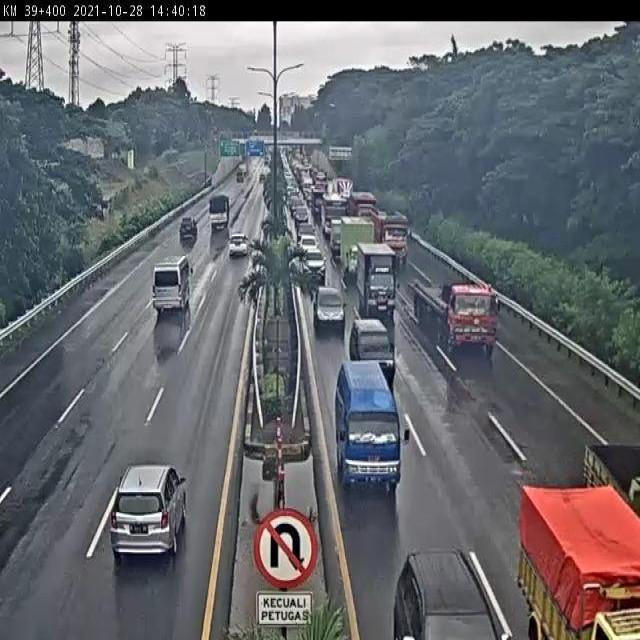small bus: (332, 360, 412, 499)
